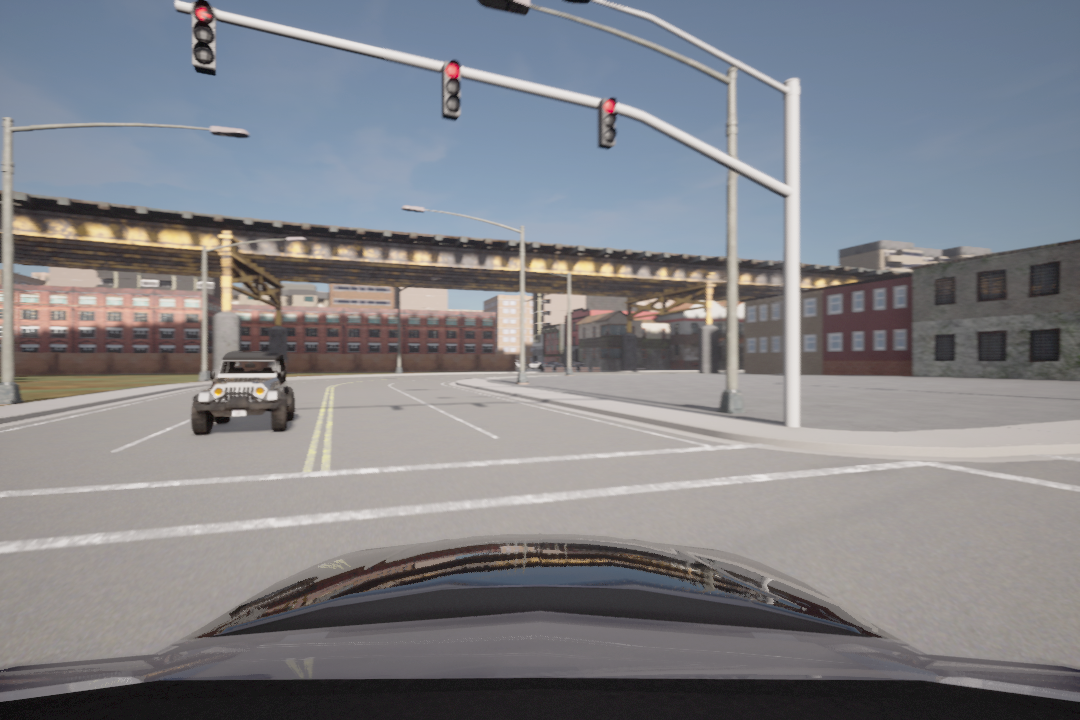TrafficLight: (191, 1, 221, 72), (439, 56, 467, 121), (595, 84, 617, 149)
